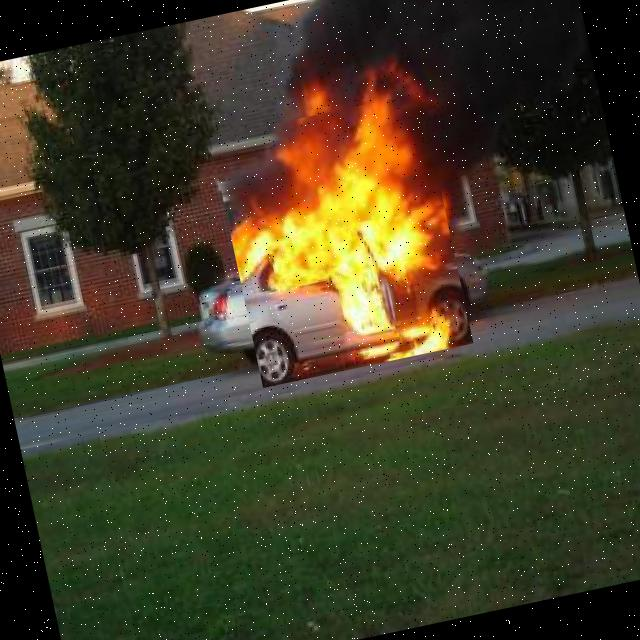fire: (210, 92, 473, 388)
